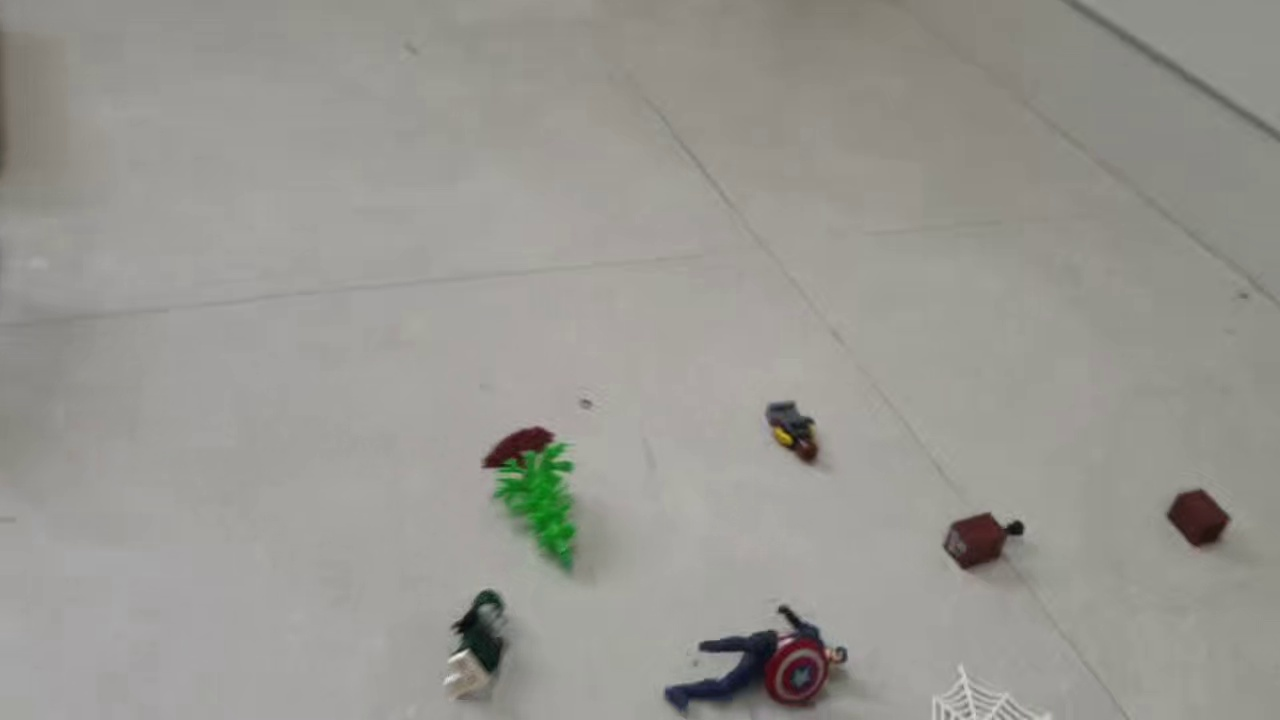box: (942, 509, 1025, 574), (1163, 487, 1234, 556)
people: (663, 605, 852, 720), (445, 587, 512, 702), (763, 399, 823, 468)
tree: (479, 424, 586, 576)
